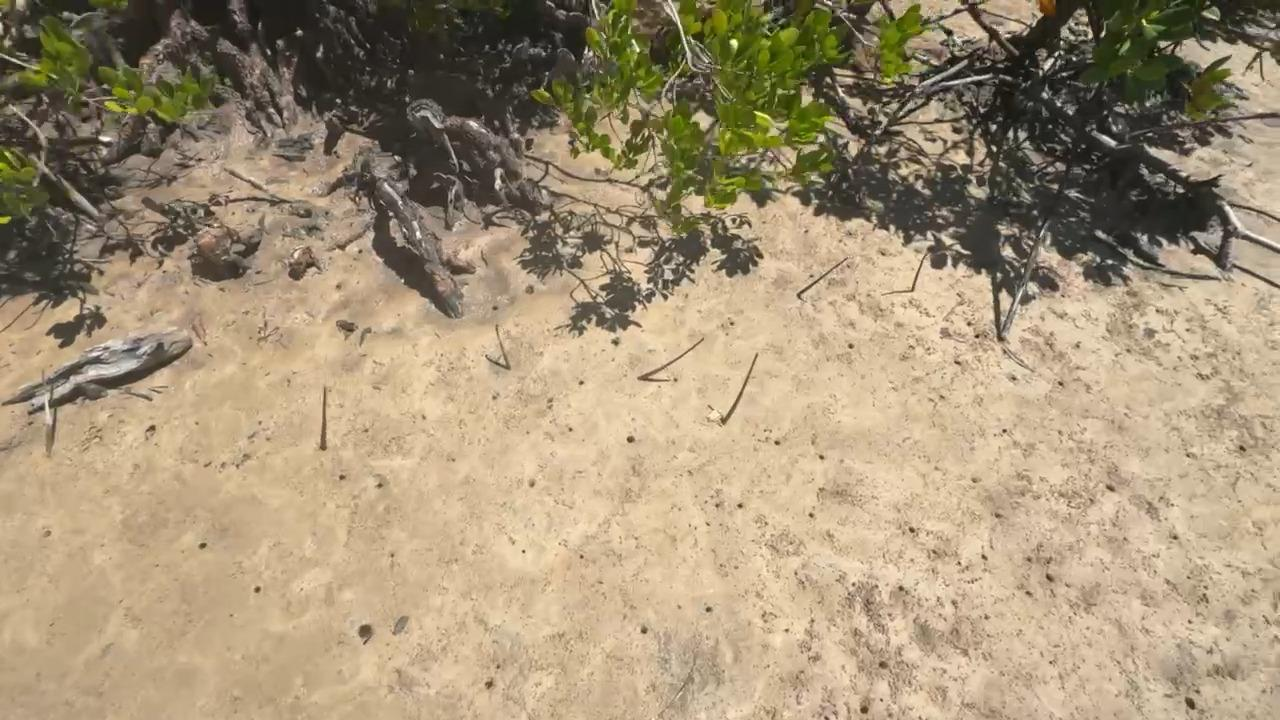Tree: (639, 338, 706, 380), (722, 352, 758, 424), (797, 257, 847, 295), (495, 322, 511, 370), (912, 253, 930, 292), (318, 385, 327, 451)
